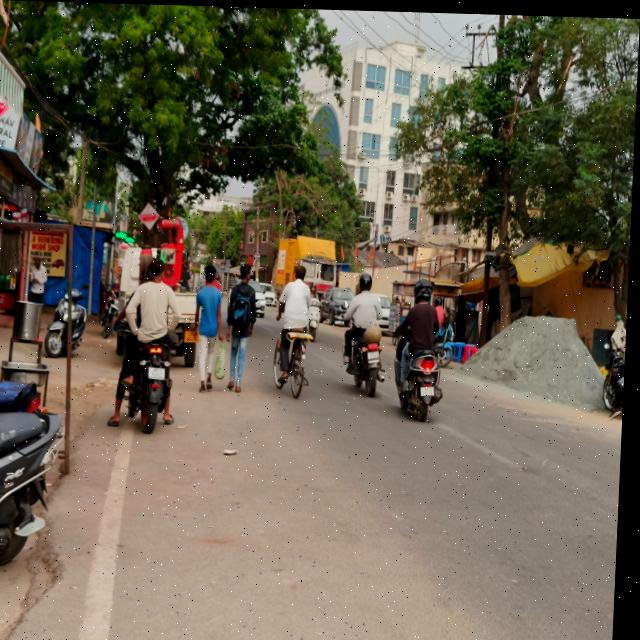bike: (0, 363, 67, 581), (136, 339, 190, 444), (399, 336, 451, 423), (47, 282, 100, 365), (350, 320, 396, 395), (604, 323, 629, 414), (107, 287, 130, 337), (311, 295, 325, 341)
car: (324, 285, 358, 323), (263, 277, 282, 309), (381, 288, 393, 330)
